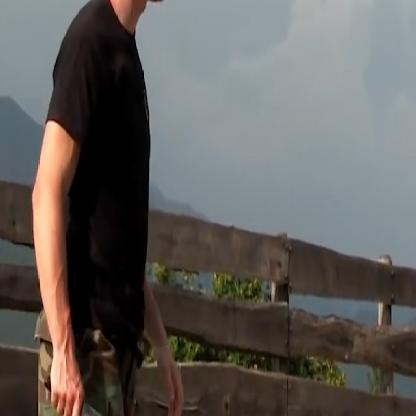knife: (37, 360, 137, 415)
